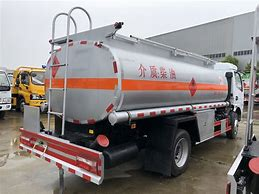oil truck: (40, 7, 247, 181)
